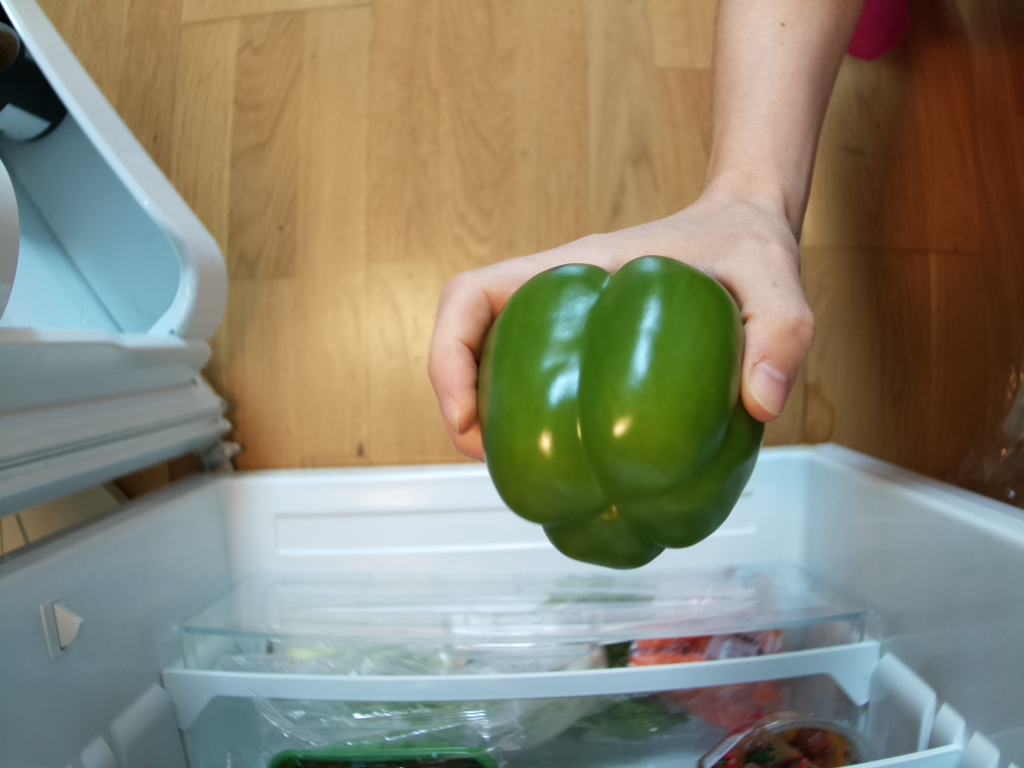pepper: (472, 253, 768, 571)
